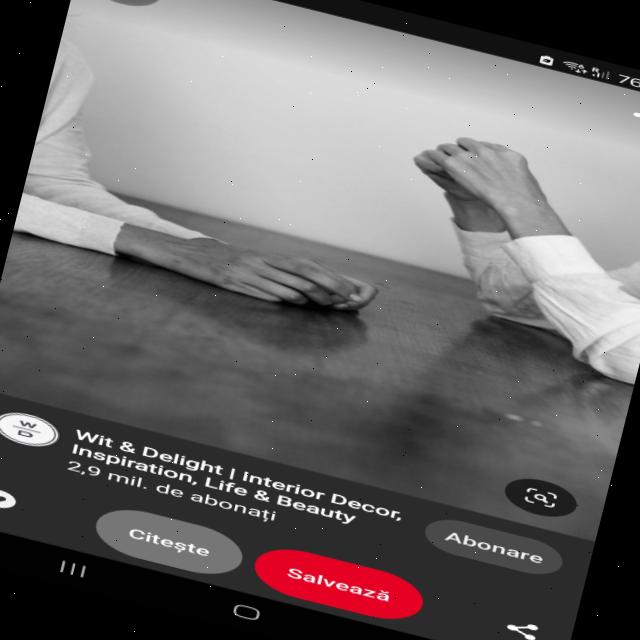hands: (73, 160, 447, 380), (371, 87, 628, 269)
